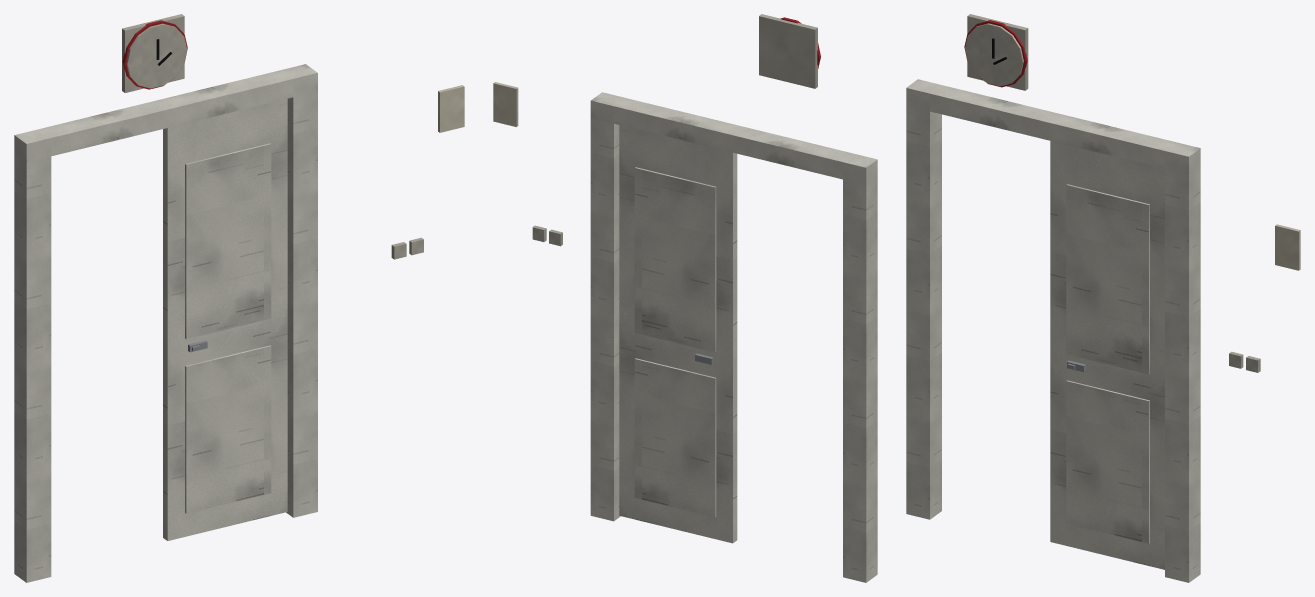
Rendered from DoorFrame.obj.
3 renders of one model, left to right at view 1: azimuth 30°, elevation 25°; view 2: azimuth 150°, elevation 25°; view 3: azimuth 330°, elevation 25°, orthographic. The views are drawn at different scales.
Parts seen in each view (by area): view 1: leaf, frame, clock, calendar; view 2: leaf, frame, clock, calendar; view 3: leaf, frame, clock, calendar.
Boxes of the visible parts, x1=… form: leaf: x1=163, y1=98, x2=287, y2=540; frame: x1=14, y1=64, x2=317, y2=582; clock: x1=122, y1=14, x2=187, y2=92; calendar: x1=438, y1=85, x2=464, y2=132; leaf: x1=619, y1=125, x2=737, y2=543; frame: x1=590, y1=92, x2=877, y2=582; clock: x1=759, y1=14, x2=820, y2=88; calendar: x1=493, y1=82, x2=518, y2=126; leaf: x1=1050, y1=141, x2=1164, y2=569; frame: x1=906, y1=79, x2=1200, y2=582; clock: x1=964, y1=14, x2=1028, y2=90; calendar: x1=1275, y1=224, x2=1300, y2=270.
Size of the model in its own units: 2.4 by 2.98 by 0.328.
Materials: 6 (3 with a texture image).
